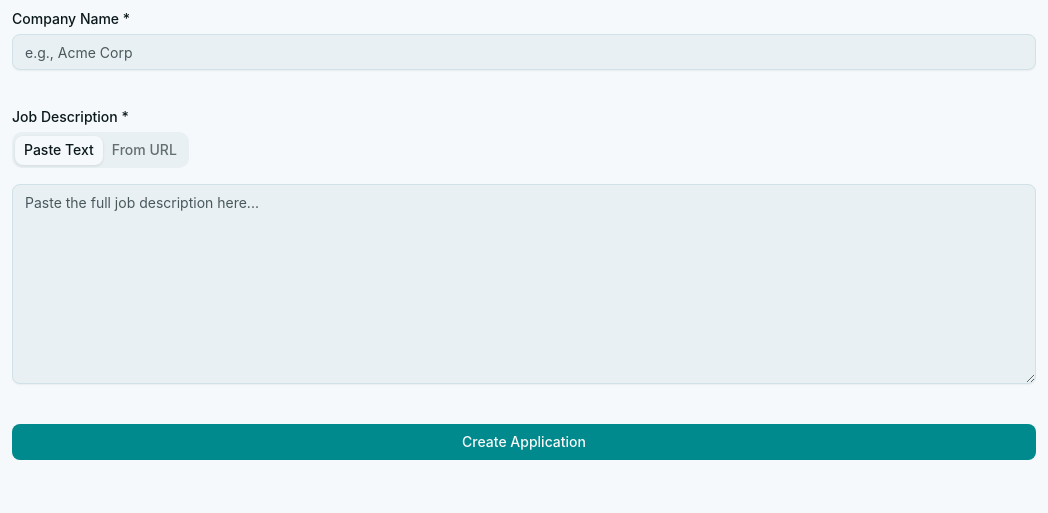
Test: JobInputForm › URL mode › enables fetch button when URL is entered
The image size is (1048, 513).
Click the tab "From URL" at (144, 150), box x1=103 y1=136 x2=186 y2=164
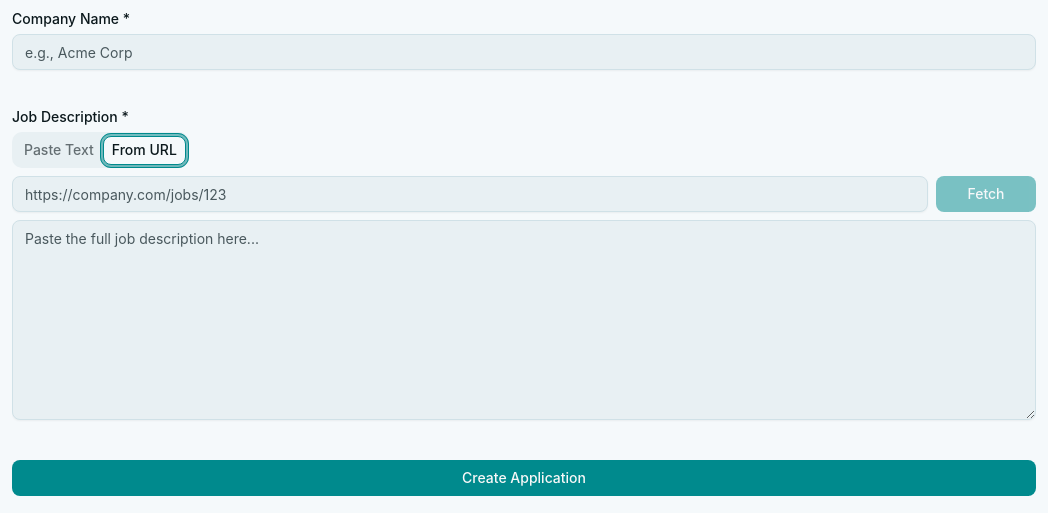
Type "https://example.com/job" into the field with placeholder "https://company.com/jobs/123" at (470, 194), box x1=12 y1=176 x2=928 y2=212
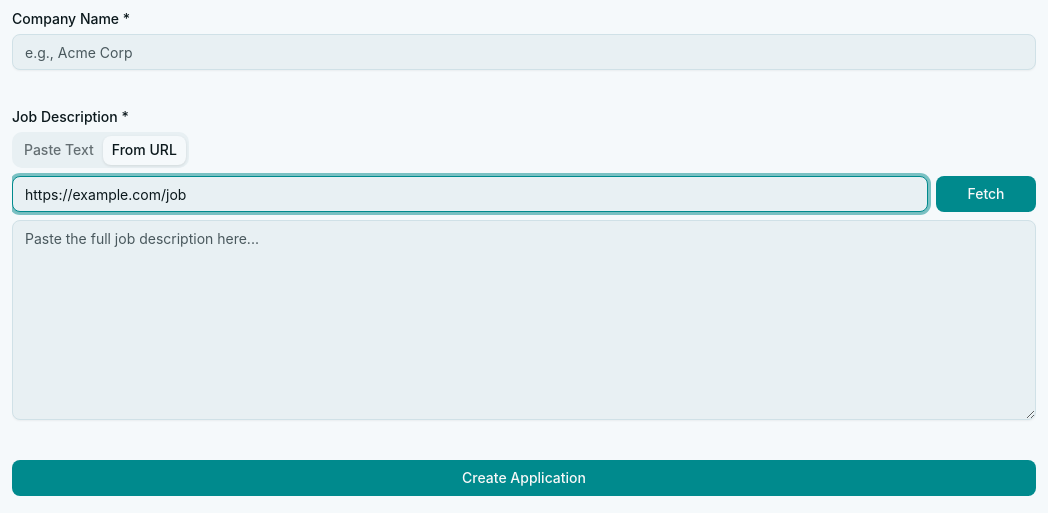
Now the button "Fetch" is enabled, box x1=936 y1=176 x2=1036 y2=212
